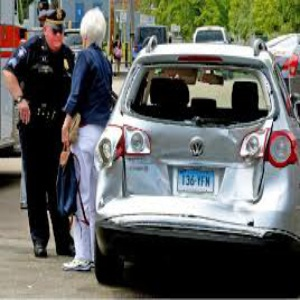tail_lights: (91, 123, 152, 159)
